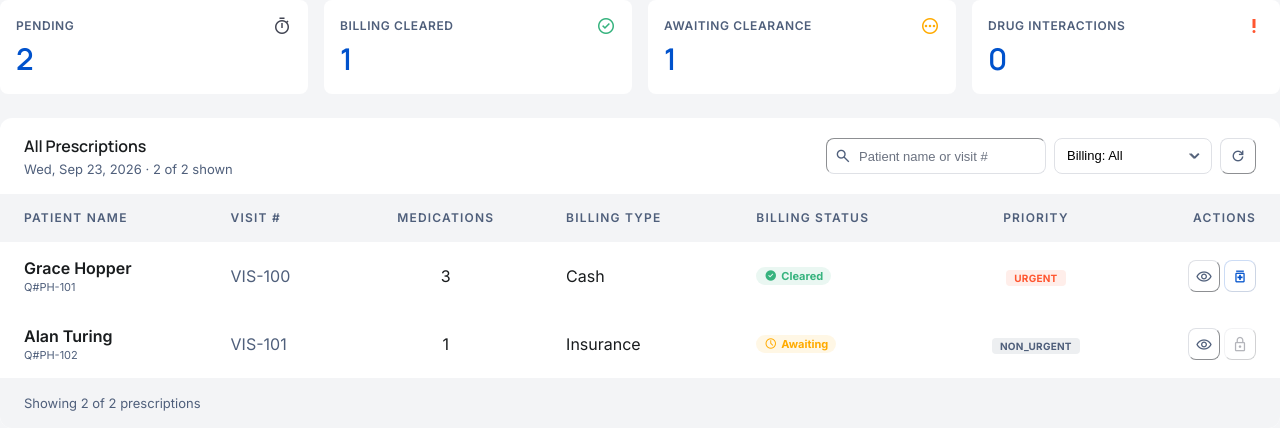
PrescriptionQueuePage Component › filters queue list by billing clearance status filter select
The width and height of the screenshot is (1280, 428).
Expected: the text "Grace Hopper" is shown, [24, 258, 132, 278]
Select "Cleared" in the dropdown showing "Billing: All" at [1133, 156], box [1054, 138, 1212, 174]
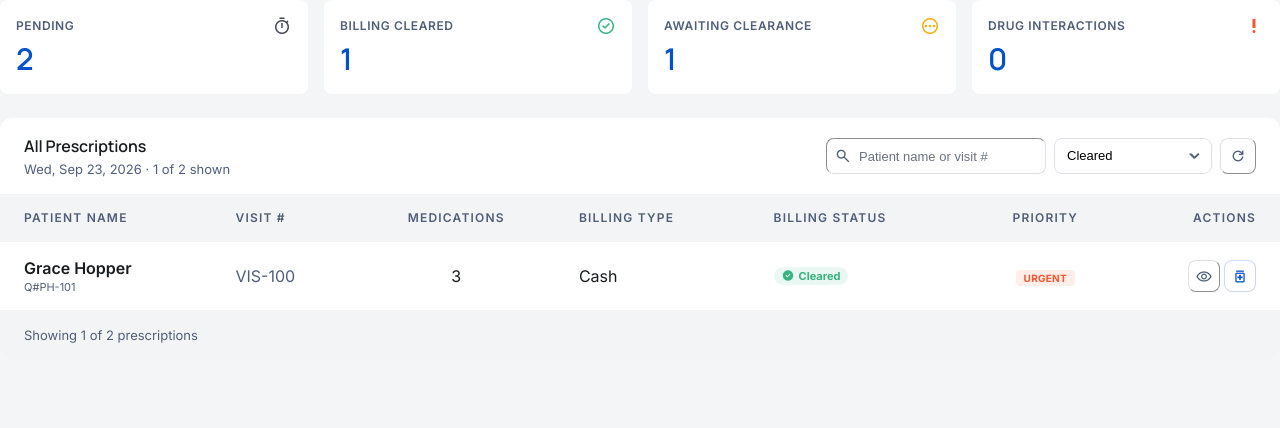
Expected: the text "Grace Hopper" is shown, [24, 258, 132, 278]
Expected: the text "Alan Turing" is gone
